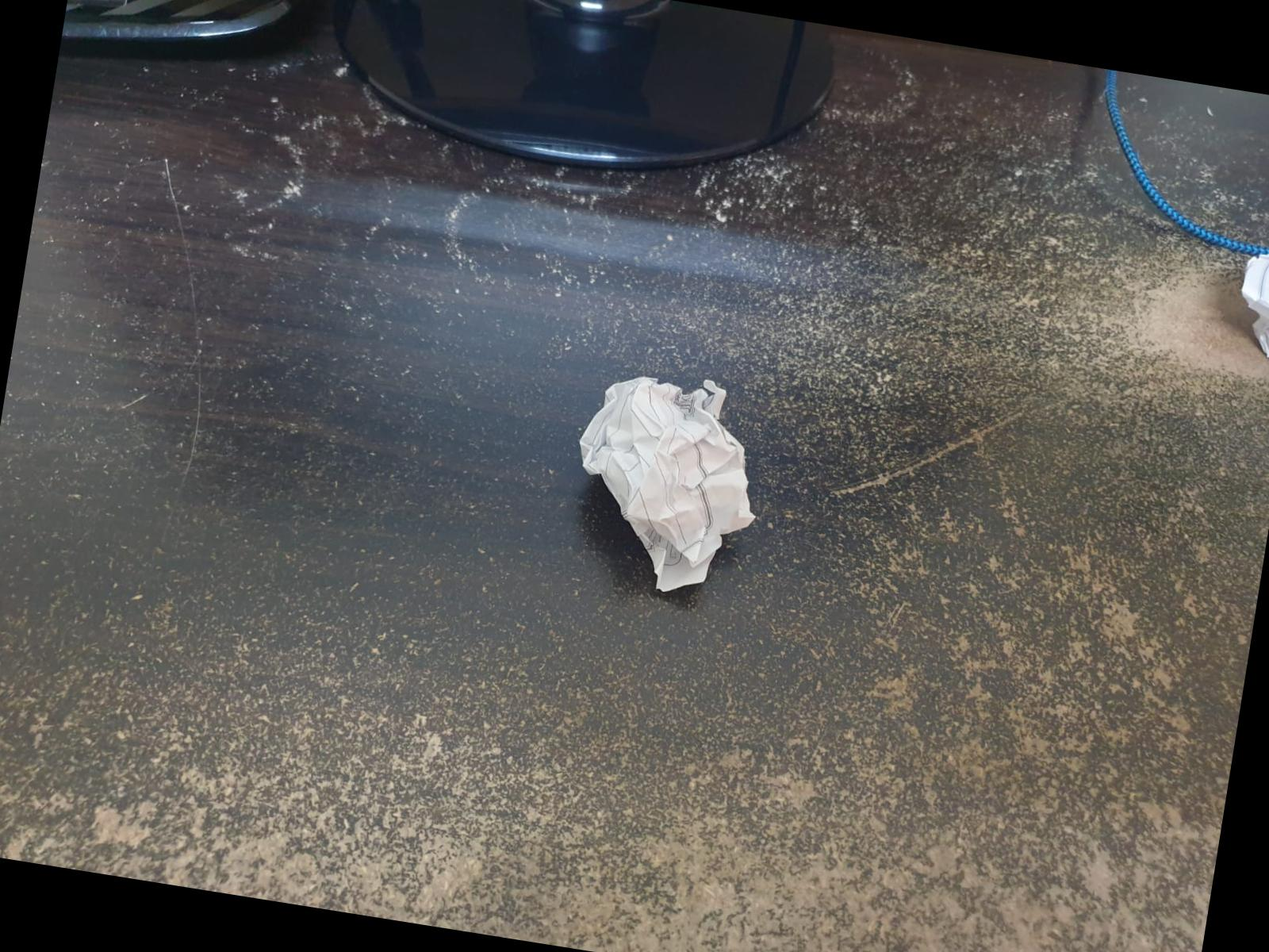Kertas: (574, 378, 753, 606)
